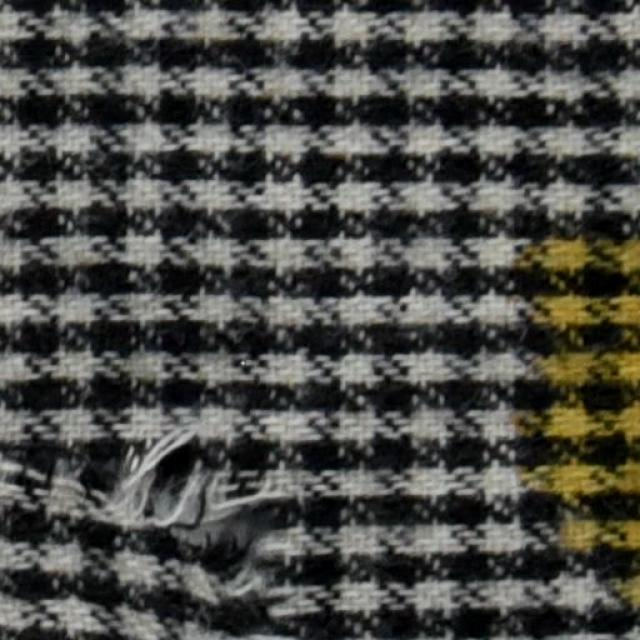Snag: (14, 425, 302, 636)
Stain: (524, 213, 639, 612)
